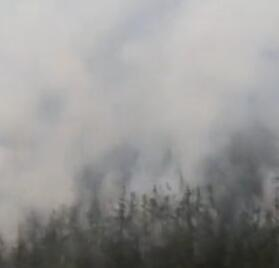yanwu: (0, 0, 278, 231)
